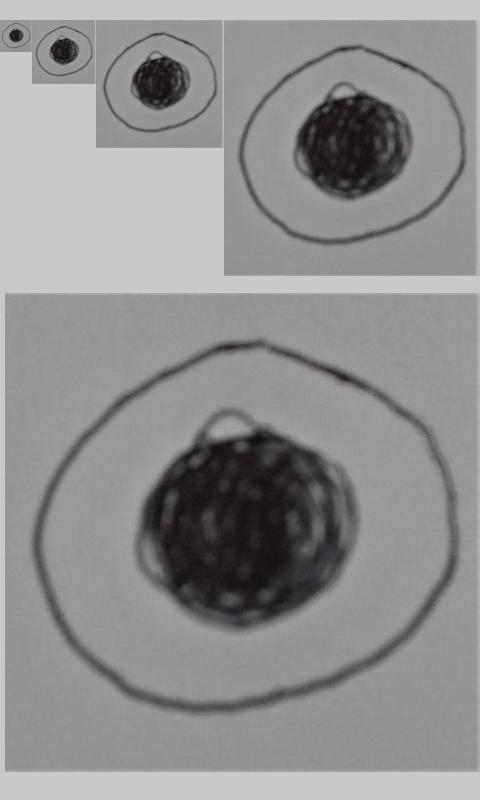radio_button: (31, 337, 462, 718), (235, 42, 469, 247), (102, 31, 218, 134), (35, 25, 94, 77), (1, 22, 31, 49)
